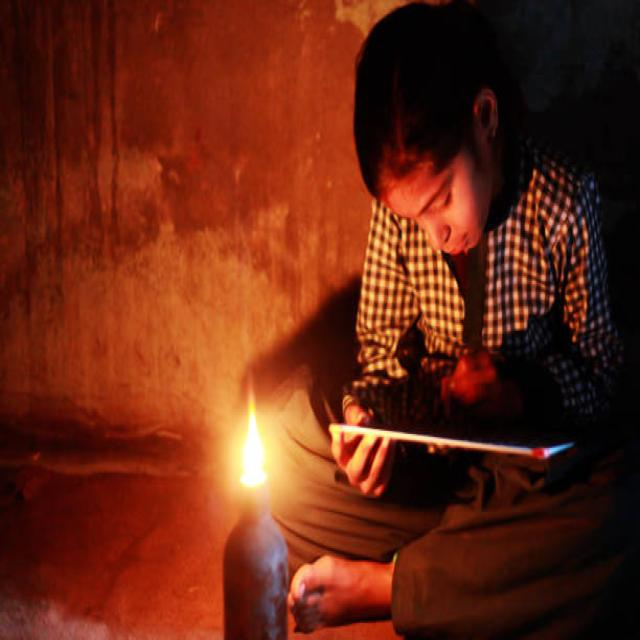fire: (238, 370, 266, 489)
